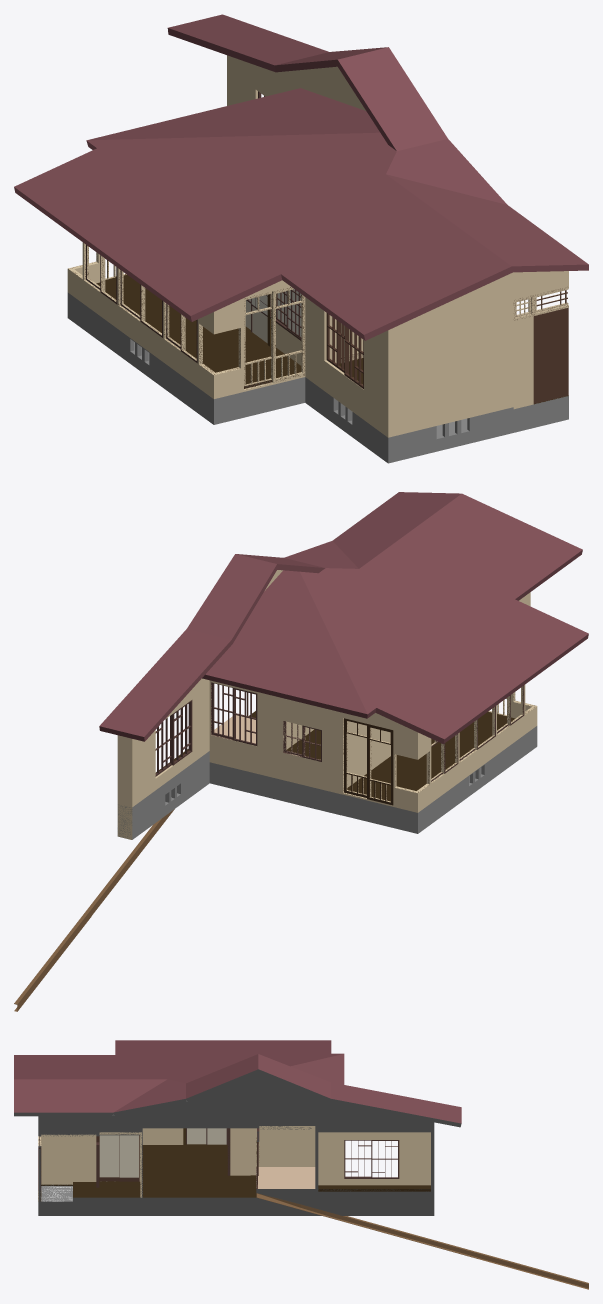
Rendered from cooltube3.glb.
The picture shows the model from 3 angles, top to bottom: view 1: azimuth 30°, elevation 25°; view 2: azimuth 150°, elevation 25°; view 3: azimuth 270°, elevation 25°; orthographic projection. The views are drawn at different scales.
Visible parts, largest first — view 1: group_0.122, group_0.002, group_0.061, group_0.065, group_0.345, group_0.012, group_0.462, group_0.159, group_0.175, group_0.579; view 2: group_0.122, group_0.002, group_0.061, group_0.065, group_0.628, group_0.627, group_0.129, group_0.485, group_0.470, group_0.159, group_0.001; view 3: group_0.122, group_0.331, group_0.002, group_0.065, group_0.128, group_0.351, group_0.129, group_0.147, group_0.308, group_0.328, group_1, group_0.528 (+7 smaller).
Boxes of the visible parts, x1,y1,x2,y2 form: group_0.122: (14, 14, 588, 340); group_0.002: (67, 55, 568, 437); group_0.061: (67, 292, 568, 463); group_0.065: (96, 275, 363, 384); group_0.345: (533, 307, 568, 403); group_0.012: (244, 287, 305, 389); group_0.462: (326, 313, 363, 388); group_0.159: (14, 187, 191, 321); group_0.175: (513, 286, 568, 320); group_0.579: (276, 323, 301, 365); group_0.122: (99, 492, 588, 743); group_0.002: (117, 570, 537, 812); group_0.061: (341, 726, 537, 833); group_0.065: (249, 711, 515, 801); group_0.628: (209, 762, 341, 815); group_0.627: (132, 751, 209, 839); group_0.129: (14, 809, 174, 1011); group_0.485: (155, 700, 192, 776); group_0.470: (212, 682, 257, 745); group_0.159: (443, 634, 588, 743); group_0.001: (367, 724, 393, 805); group_0.122: (14, 1040, 461, 1123); group_0.331: (14, 1069, 430, 1134); group_0.002: (41, 1129, 430, 1185); group_0.065: (73, 1144, 256, 1197); group_0.128: (41, 1197, 321, 1215); group_0.351: (256, 1191, 430, 1215); group_0.129: (256, 1193, 588, 1289); group_0.147: (256, 1069, 461, 1215); group_0.308: (230, 1128, 256, 1175); group_0.328: (258, 1167, 315, 1188); group_1: (99, 1135, 119, 1177); group_0.528: (119, 1135, 138, 1177).
Bounding box in the file's own units: 10.75 × 11.76 × 27.79.
